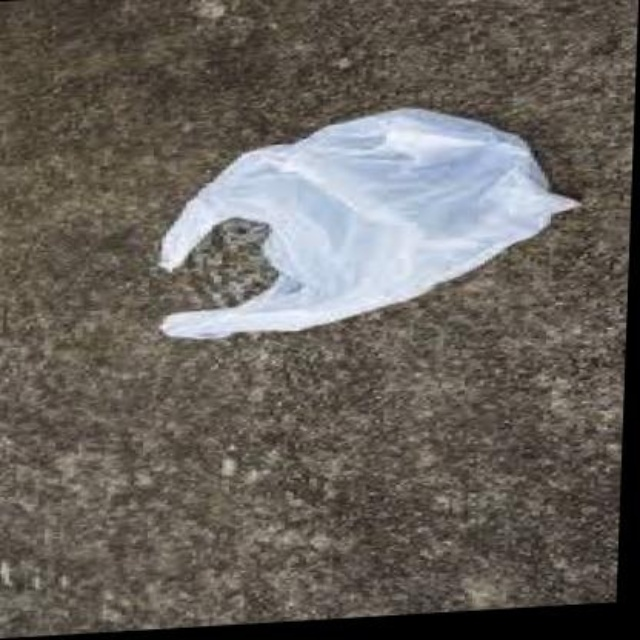trash: (160, 108, 577, 337)
